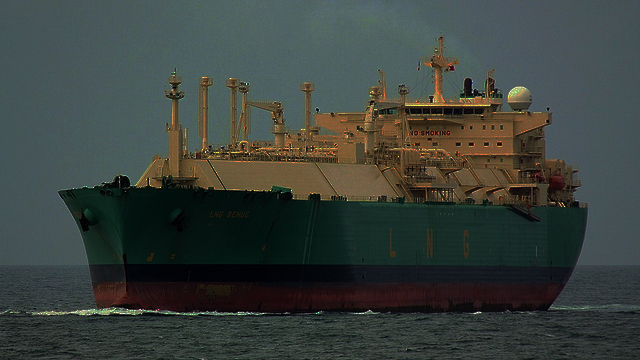LNG_ship: (59, 38, 586, 311)
